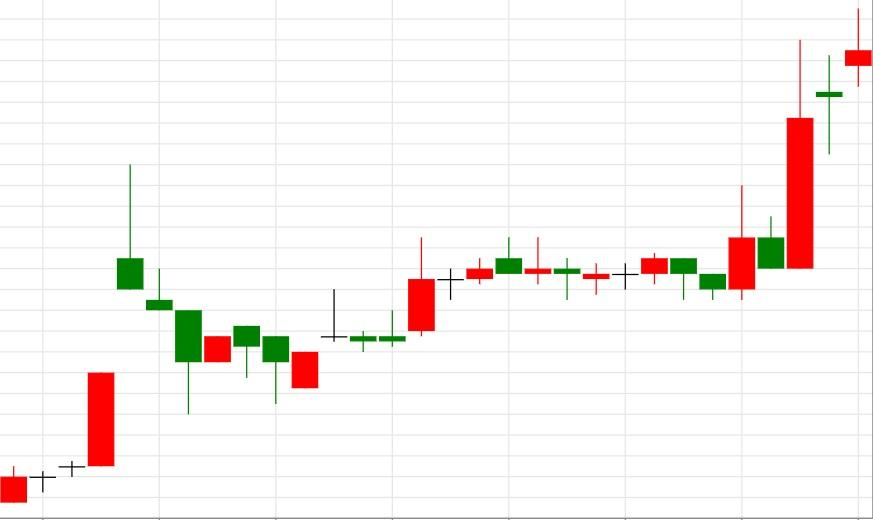bullish_engulfing_rise: (640, 184, 757, 301)
shooting_star_fall: (0, 164, 145, 503)
